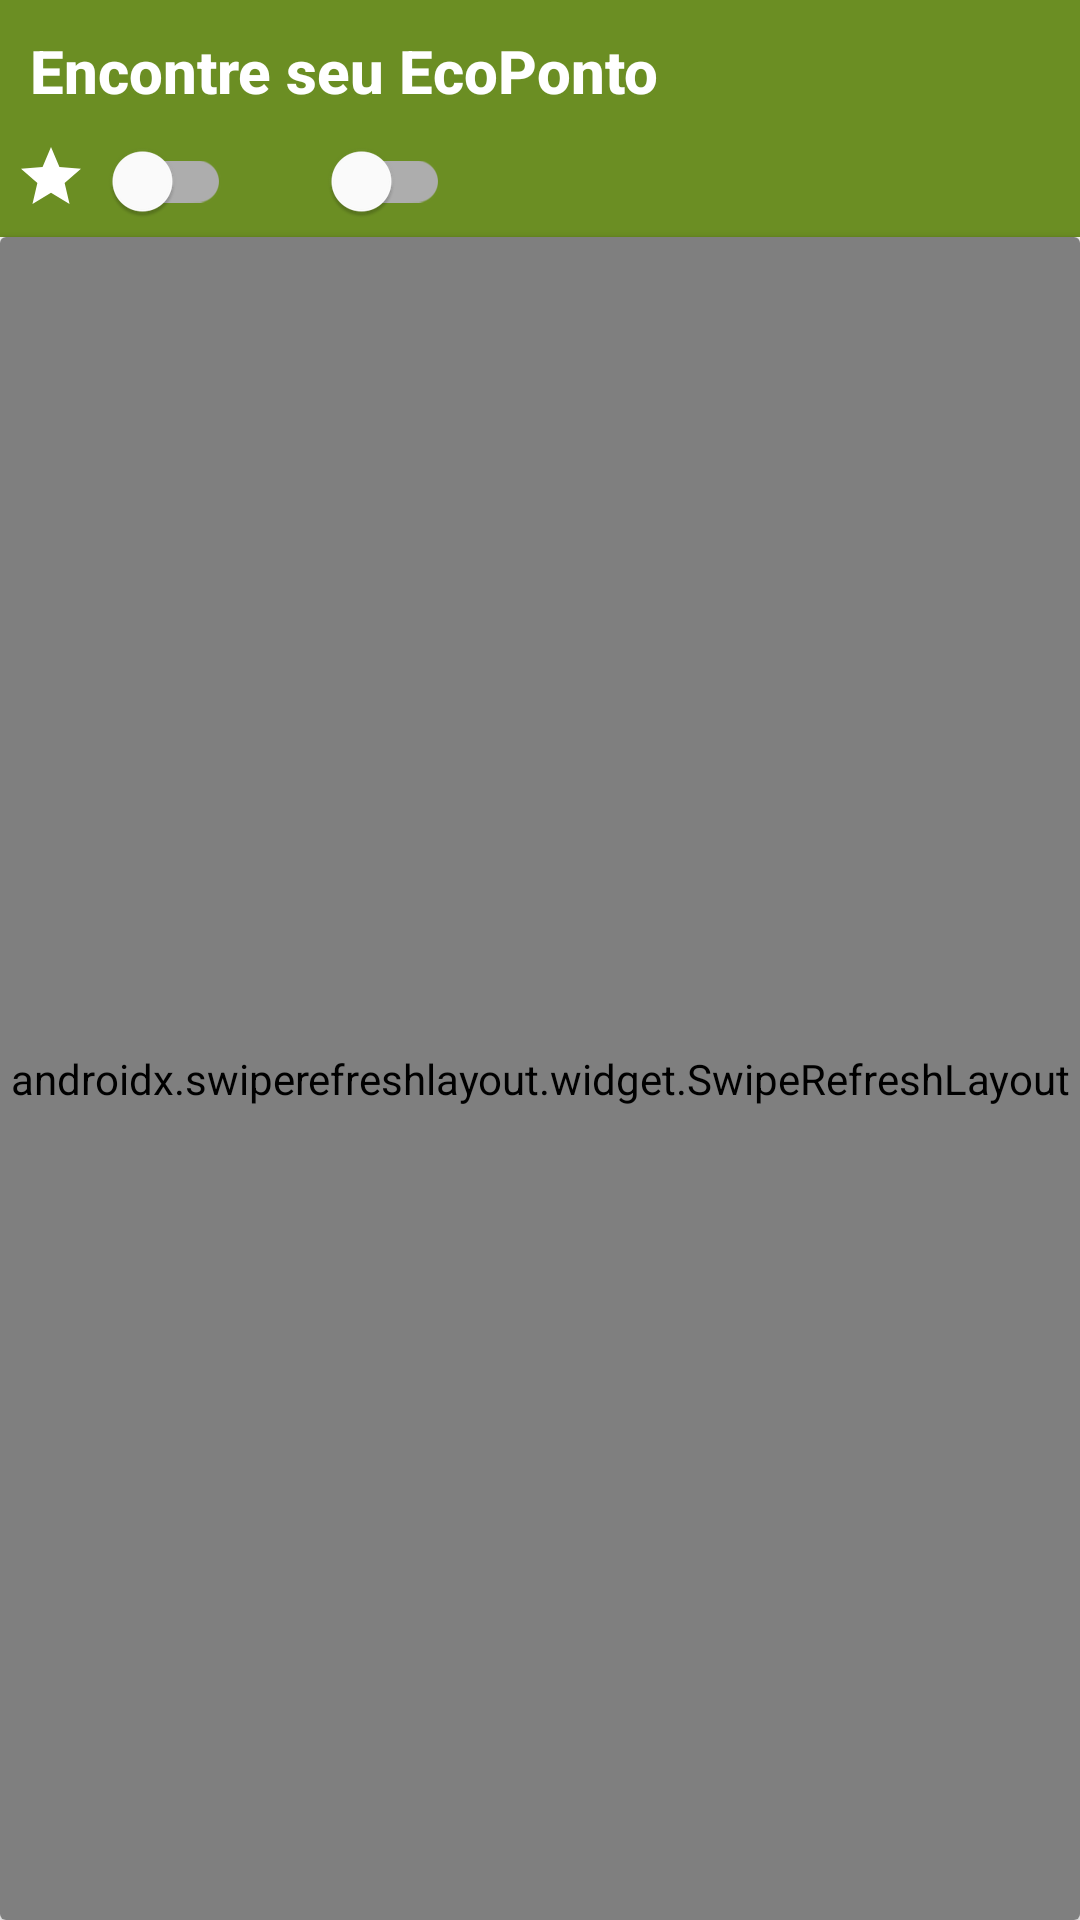

Icons on this 1080px x 1920px Android screen, each with the point to tap as [x,y]:
star: [51,175]
